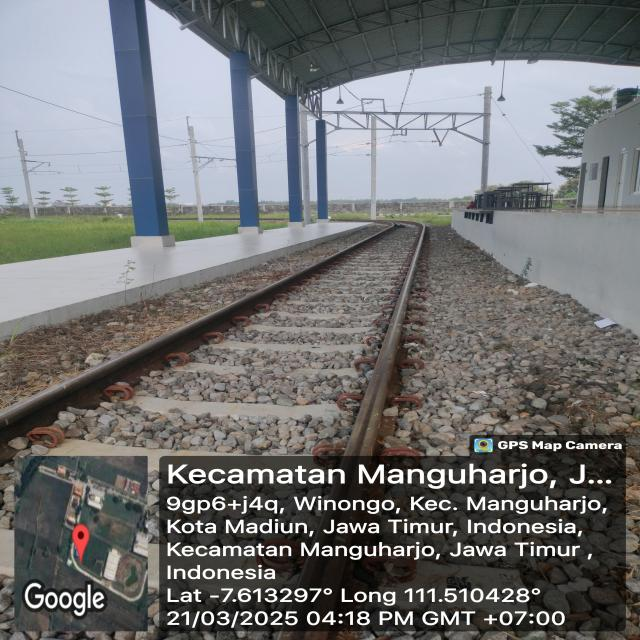rail-detection: (0, 222, 401, 458), (344, 222, 425, 458)
